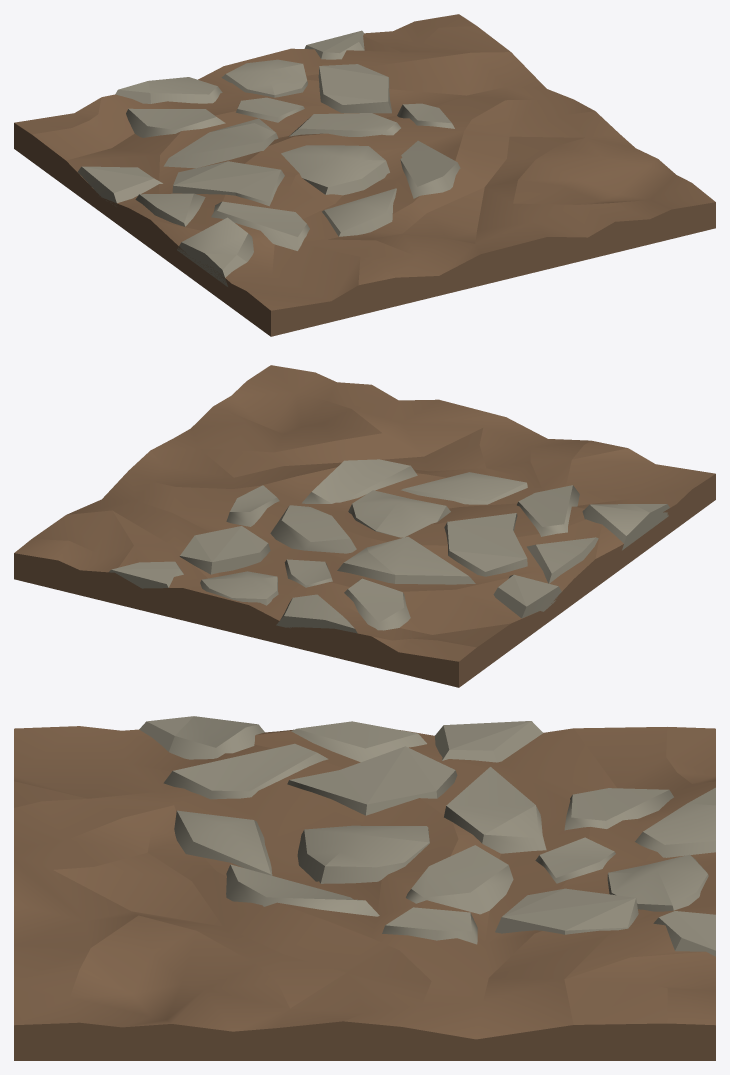
The model's file is Ground_Stone_Path_Turn_RB.glb.
3 views of the same model, one above another, from view 1: azimuth 30°, elevation 25°; view 2: azimuth 150°, elevation 25°; view 3: azimuth 270°, elevation 25° (orthographic). The views are drawn at different scales.
Parts seen in each view (by area): view 1: Ground_Stone_Path_Turn_RB; view 2: Ground_Stone_Path_Turn_RB; view 3: Ground_Stone_Path_Turn_RB.
Part boxes in pixels (x1,y1,x2,y2): Ground_Stone_Path_Turn_RB: (14, 14, 715, 336); Ground_Stone_Path_Turn_RB: (14, 365, 715, 687); Ground_Stone_Path_Turn_RB: (14, 716, 715, 1060).
Bounding box in the file's own units: 1.47 × 0.1486 × 1.47.
